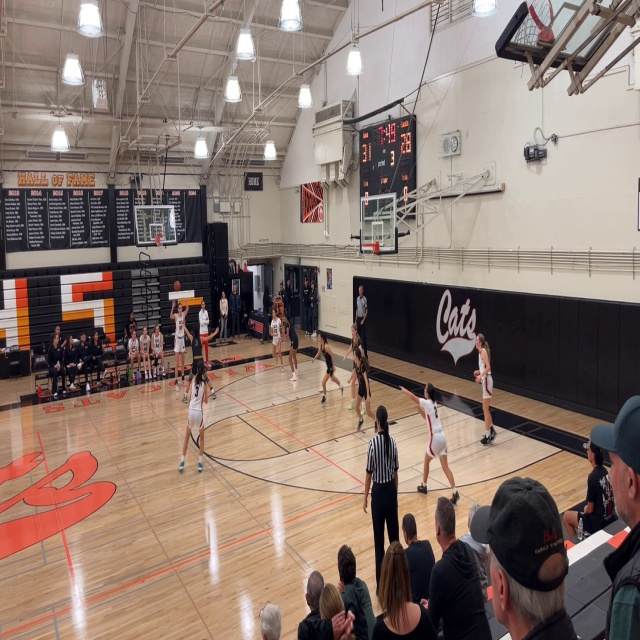Basketball: (173, 281, 181, 291)
